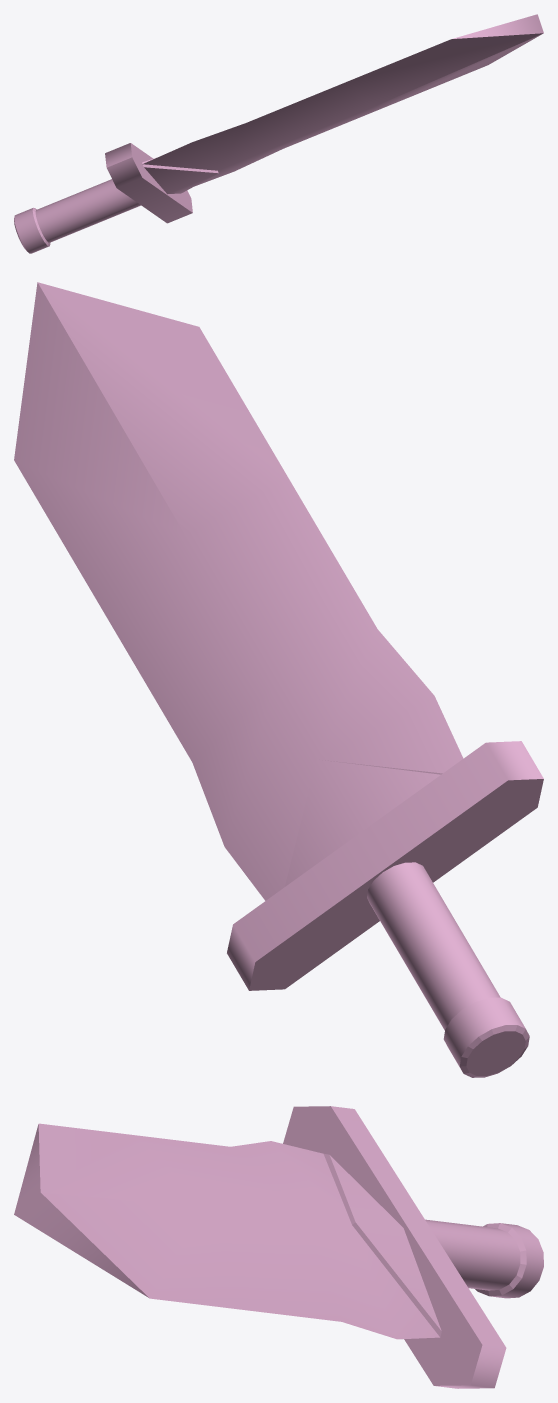
File: swordanimation.fbx
3 views of the same model, one above another, from view 1: azimuth 30°, elevation 25°; view 2: azimuth 150°, elevation 25°; view 3: azimuth 270°, elevation 25° (orthographic). The views are drawn at different scales.
Parts seen in each view (by area): view 1: polySurface1; view 2: polySurface1; view 3: polySurface1.
Part boxes in pixels (x1=…): polySurface1: x1=14, y1=14, x2=543, y2=253; polySurface1: x1=14, y1=282, x2=543, y2=1077; polySurface1: x1=14, y1=1106, x2=543, y2=1388.
Bounding box in the file's own units: 79.99 × 47.21 × 53.03.
